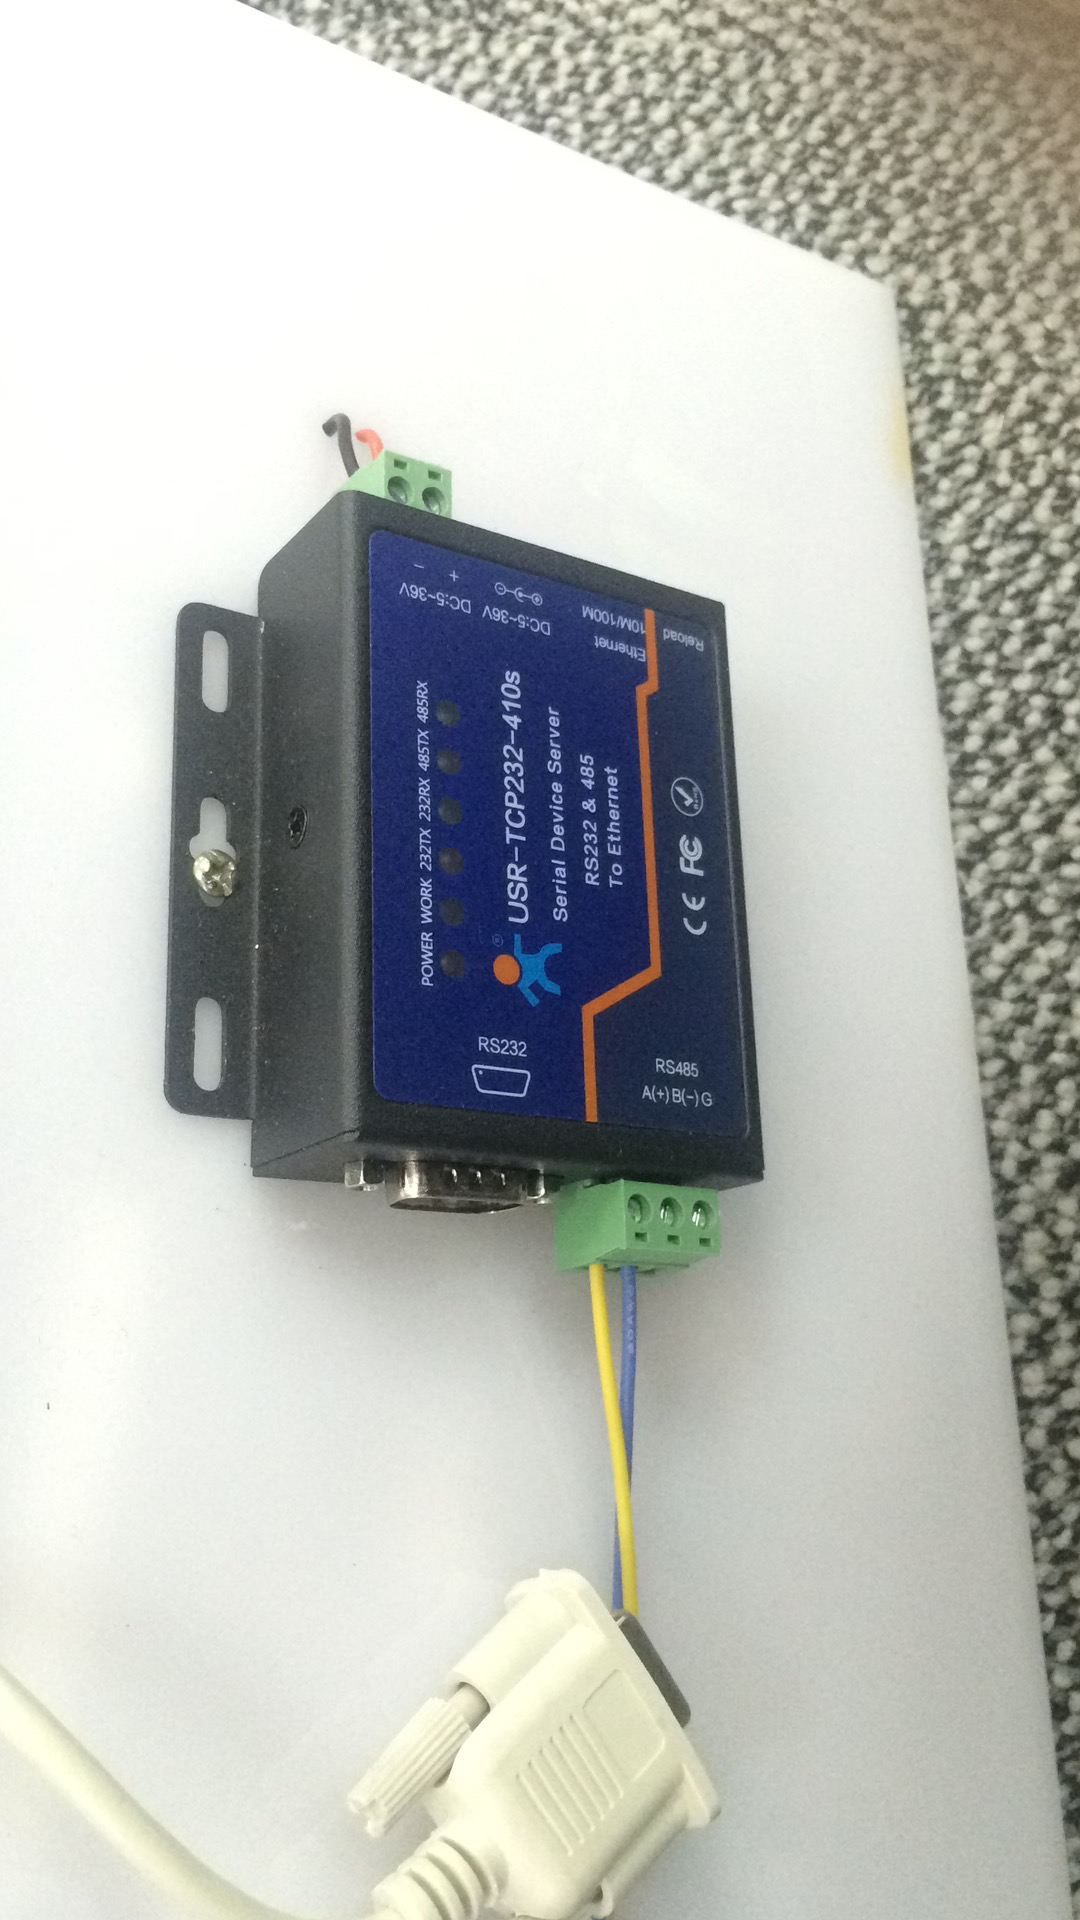modbus bridge: (141, 452, 799, 1294)
